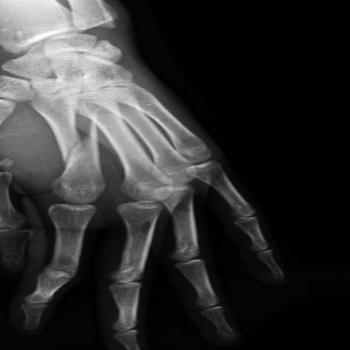Fracture: (51, 127, 98, 170)
